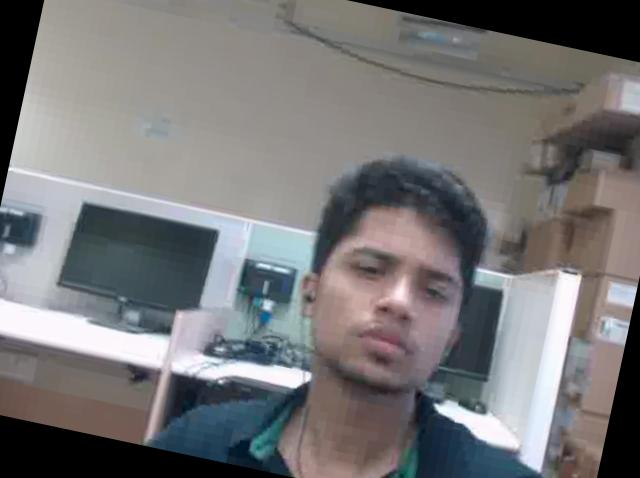bingung: (298, 198, 471, 395)
